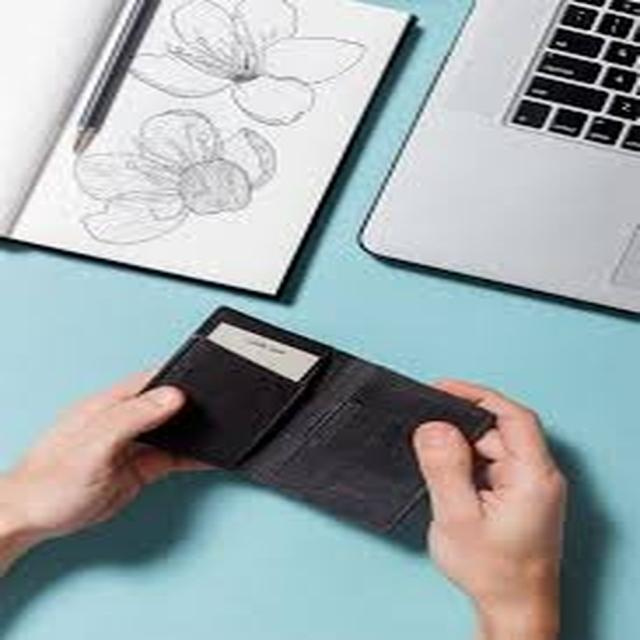wallet: (106, 234, 481, 522)
